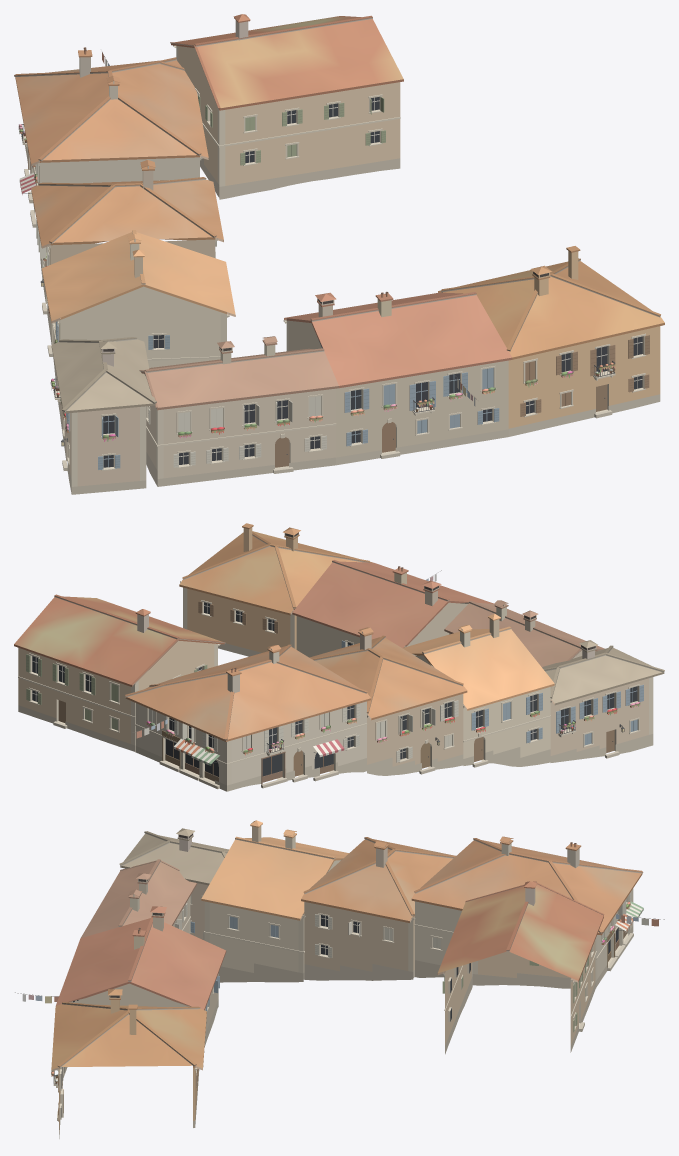
Rendered from SM_BM_BT_blk_31.glb.
The picture shows the model from 3 angles, top to bottom: view 1: azimuth 30°, elevation 25°; view 2: azimuth 150°, elevation 25°; view 3: azimuth 270°, elevation 25°; orthographic projection. The views are drawn at different scales.
Parts seen in each view (by area): view 1: SM_BM_BT_blk_31; view 2: SM_BM_BT_blk_31; view 3: SM_BM_BT_blk_31.
Part boxes in pixels (left/top/right/bottom): SM_BM_BT_blk_31: left=14, top=14, right=664, bottom=494; SM_BM_BT_blk_31: left=14, top=523, right=664, bottom=791; SM_BM_BT_blk_31: left=15, top=820, right=664, bottom=1138.
Size of the model in its own units: 50.4 by 19.89 by 59.3.
